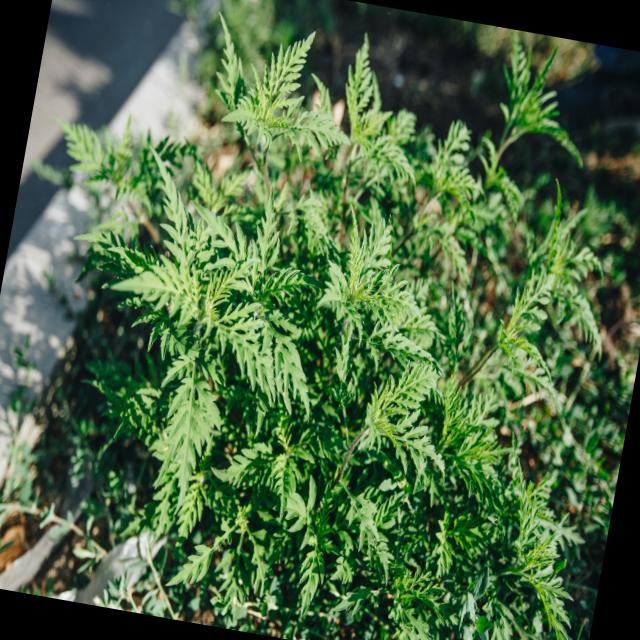ambrosia: (99, 188, 318, 496), (188, 6, 374, 206), (317, 332, 482, 510), (474, 207, 611, 374), (459, 37, 596, 188), (467, 474, 582, 640), (310, 207, 432, 351)
